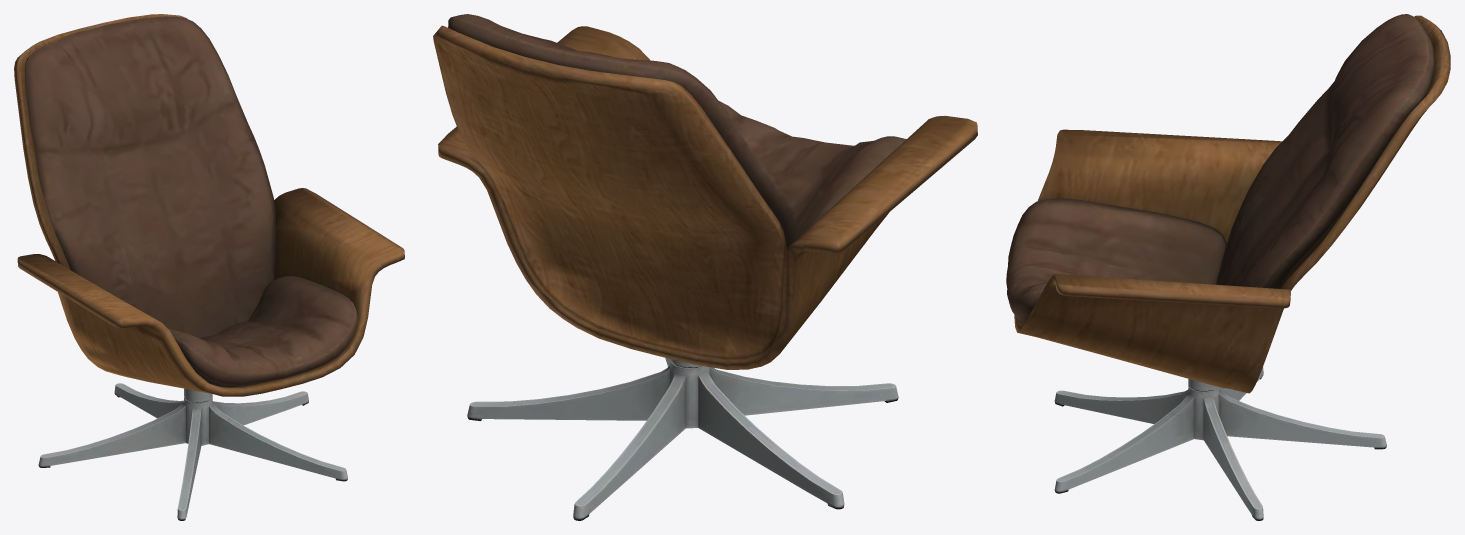
The model's file is mid_century_lounge_chair.glb.
3 renders of one model, left to right at view 1: azimuth 30°, elevation 25°; view 2: azimuth 150°, elevation 25°; view 3: azimuth 270°, elevation 25°, orthographic. The views are drawn at different scales.
Visible parts, largest first — view 1: mid_century_lounge_chair; view 2: mid_century_lounge_chair; view 3: mid_century_lounge_chair.
Boxes of the visible parts, <box> form: mid_century_lounge_chair: <box>14,14,404,520</box>; mid_century_lounge_chair: <box>433,14,977,520</box>; mid_century_lounge_chair: <box>1006,14,1450,520</box>.
Size of the model in its own units: 1.01 by 1.17 by 1.19.
Materials: 1 (1 with a texture image).
